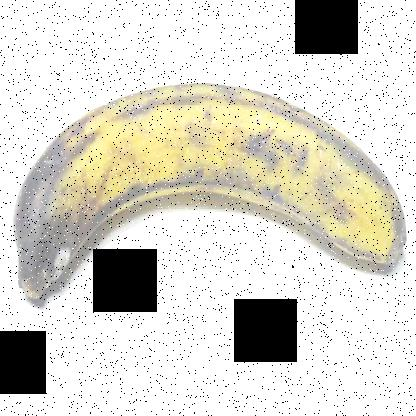overripe: (5, 64, 415, 316)
rotten: (0, 144, 110, 309)
